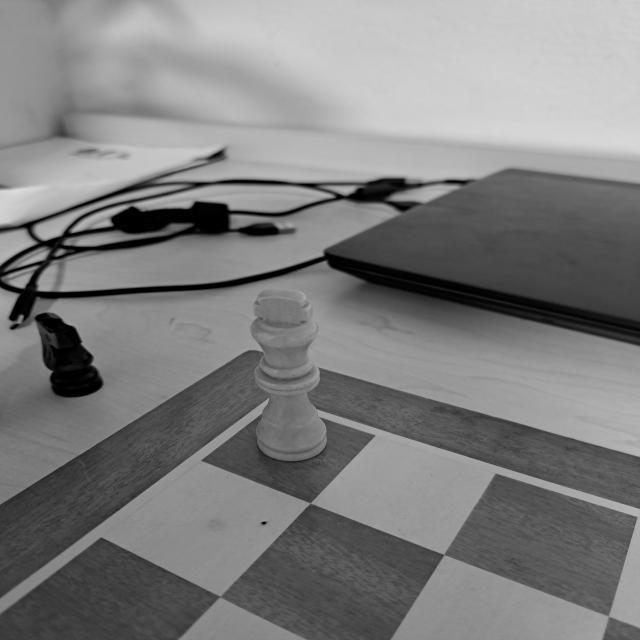chess-table-corners: (218, 378, 348, 439)
